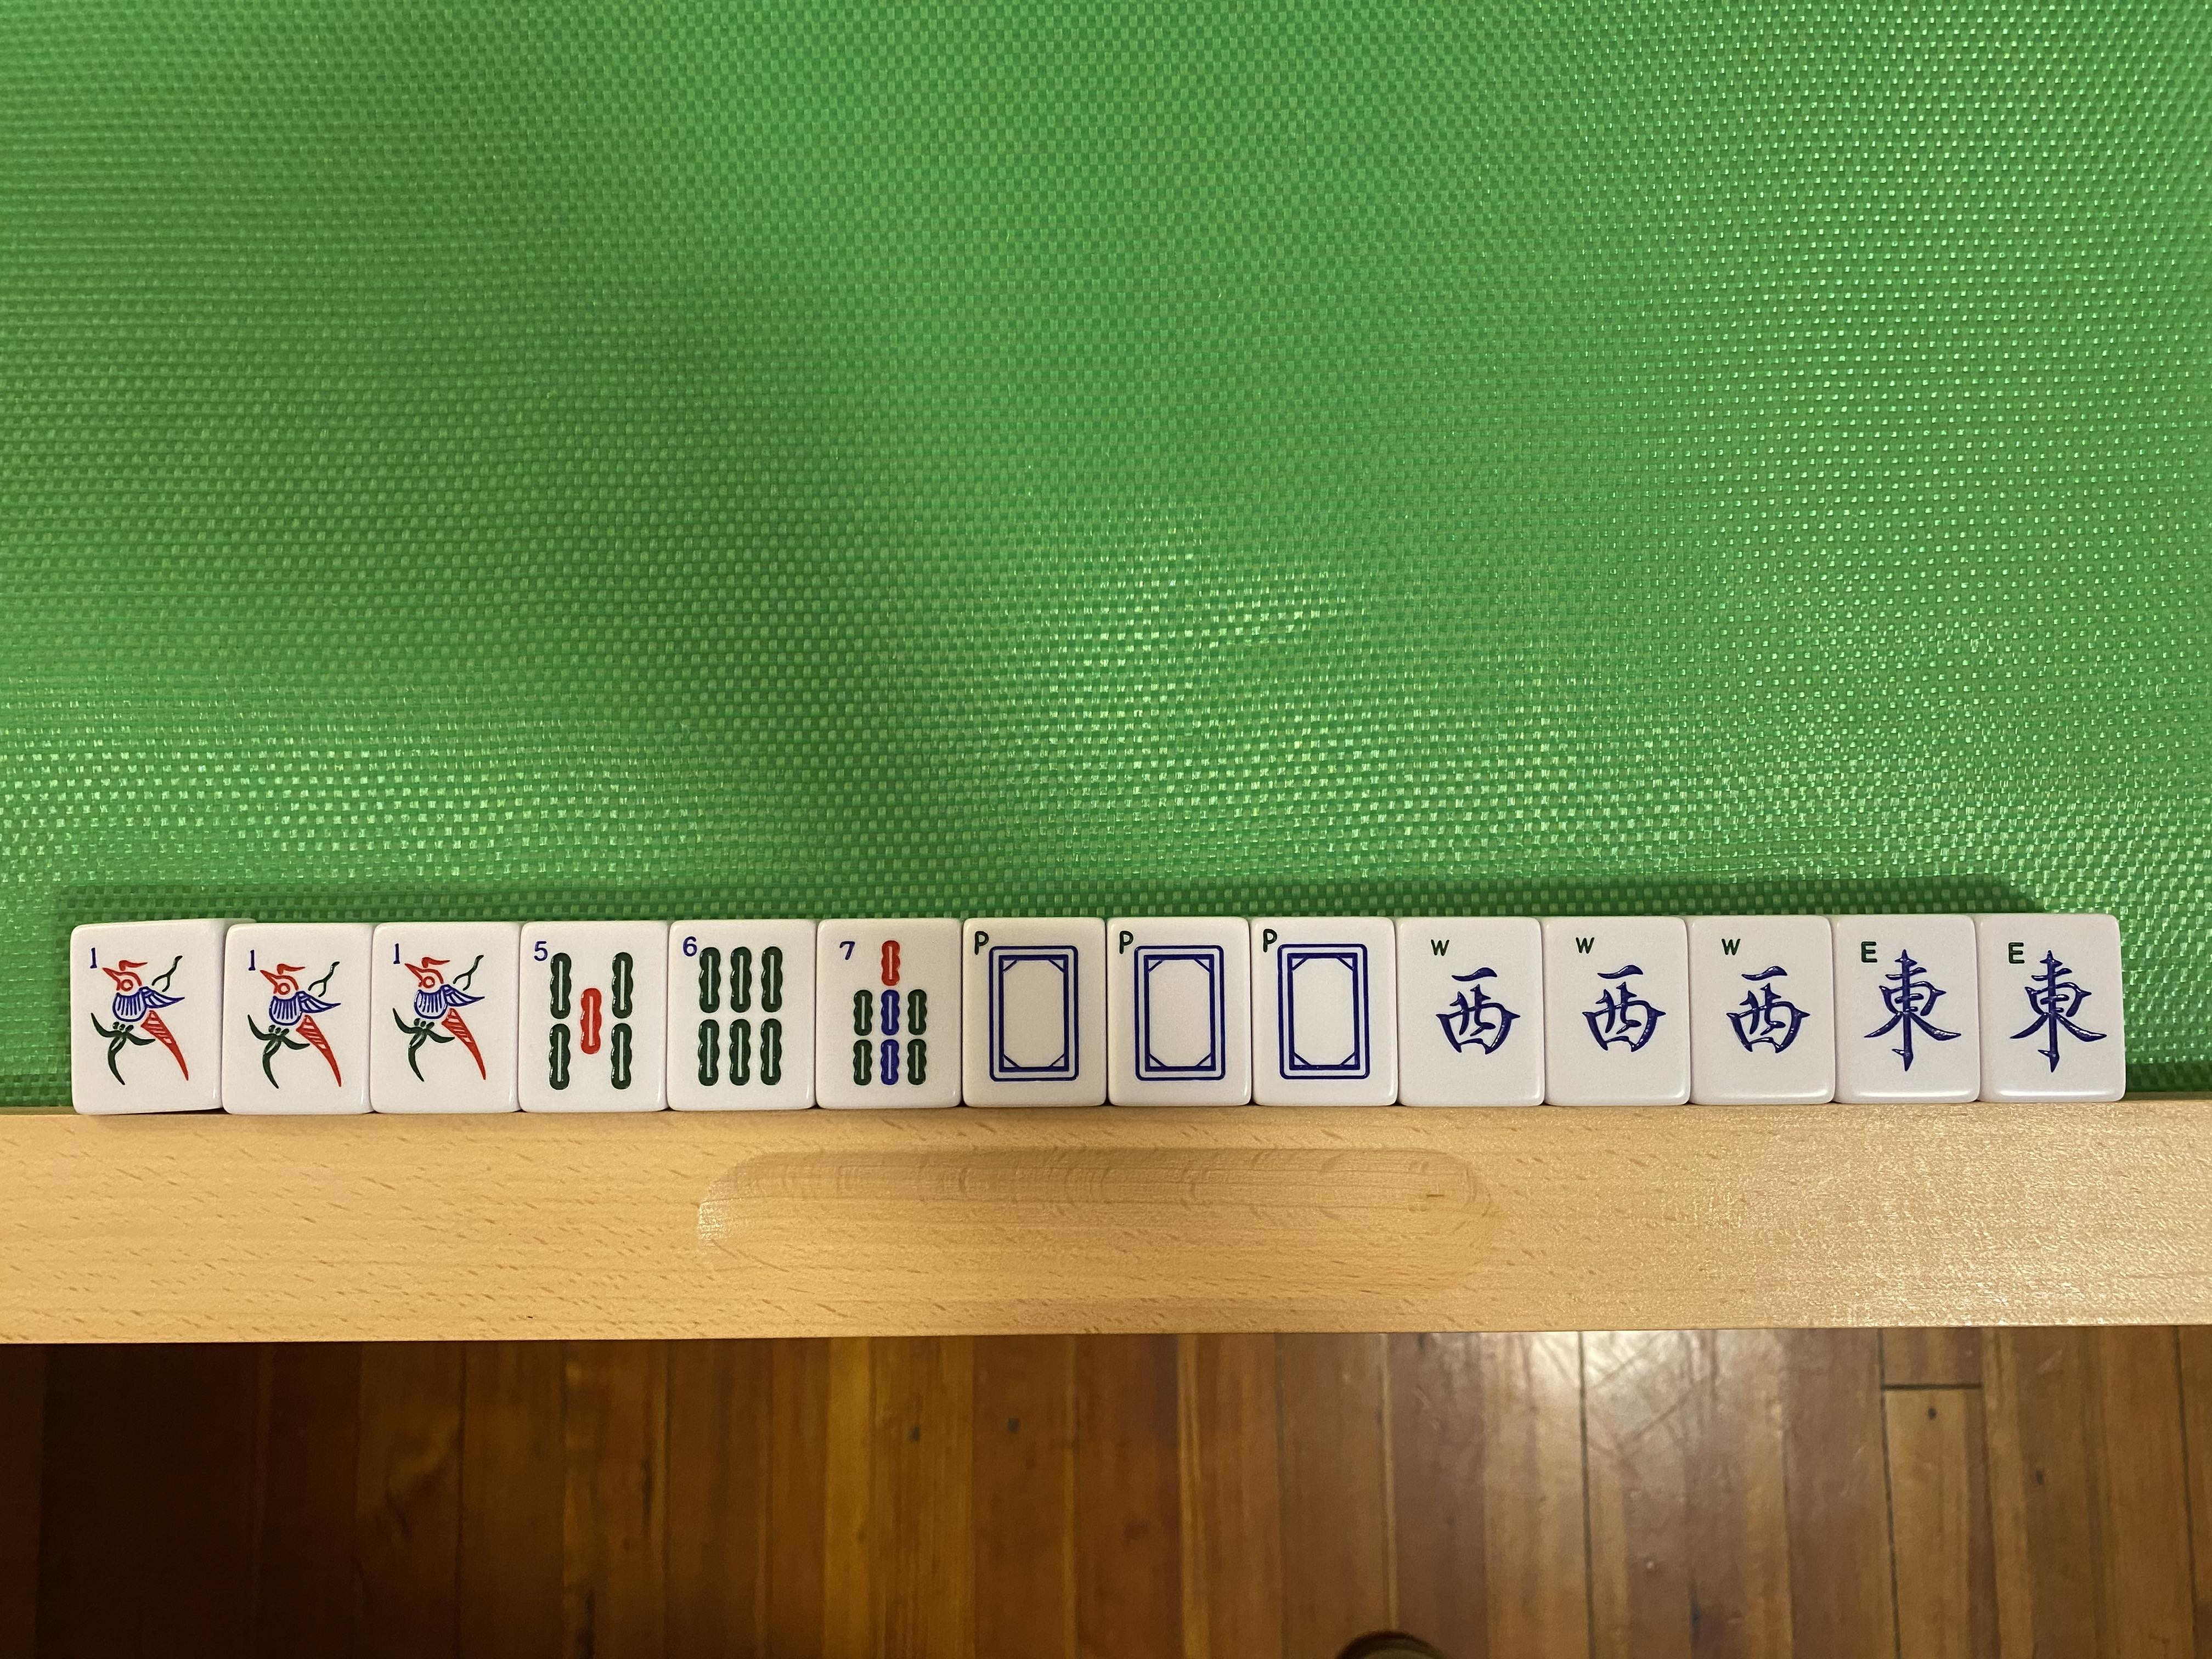bamboo-five: (523, 925, 662, 1107)
bamboo-one: (376, 925, 512, 1110), (230, 932, 366, 1110), (75, 931, 209, 1108)
bamboo-seven: (820, 927, 954, 1107)
bamboo-six: (674, 924, 808, 1107)
honor-blue_dragon: (1111, 922, 1247, 1103), (1256, 922, 1390, 1101), (965, 924, 1099, 1101)
honor-east_wind: (1986, 918, 2118, 1098), (1844, 918, 1972, 1096)
honor-west_wind: (1399, 924, 1538, 1100), (1548, 922, 1684, 1101), (1696, 922, 1829, 1101)
